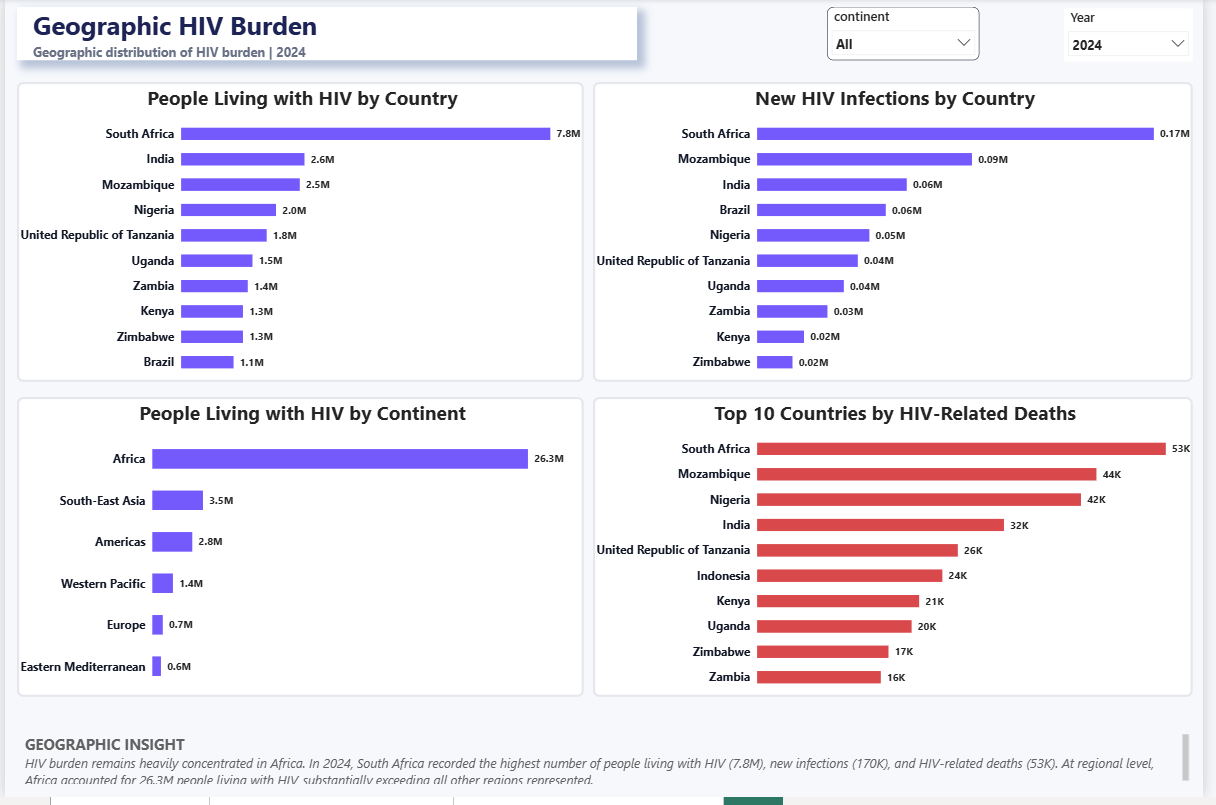

What the dashboard file says about the page in this screenshot:
{"tool":"powerbi","page":{"name":"02 Geographic Burden","canvas":[1500,1000],"ordinal":1},"visuals":[{"type":"slicer","fields":{"Values":["DimDate.Date.Variation.Date Hierarchy.Year"]},"box":[1325.8,13.1,161.1,66.7],"z":0},{"type":"slicer","fields":{"Values":["DimLocation.Continent"]},"box":[1029.6,11.1,190.7,66.7],"z":1000},{"type":"clusteredBarChart","title":"People Living with HIV by Country","fields":{"Category":["DimLocation.Country"],"Y":["MeasureTable_.Total People Living with HIV"]},"box":[14.8,105.1,709.7,375],"z":2000},{"type":"textbox","title":"Geographic HIV Burden","box":[14.8,11.1,775.9,66.7],"z":3000},{"type":"clusteredBarChart","title":"New HIV Infections by Country","fields":{"Category":["DimLocation.Country"],"Y":["MeasureTable_.Total New Infections"]},"box":[735.9,105.1,751,375],"z":4000},{"type":"clusteredBarChart","title":"People Living with HIV by Continent","fields":{"Category":["DimLocation.continent"],"Y":["MeasureTable_.Total People Living with HIV"]},"box":[14.8,499.4,709.7,375],"z":5000},{"type":"clusteredBarChart","title":"Top 10 Countries by HIV-Related Deaths","fields":{"Category":["DimLocation.country"],"Y":["MeasureTable_.Total HIV Deaths"]},"box":[735.9,499.4,751,375],"z":6000},{"type":"textbox","box":[15,916.2,1471.9,67.6],"z":7000}]}

Visuals, with their boxes in screenshot pixels (x1, y1, x2, y2), scaled from the page's 1500x1000 canvas onto the 1216x805 screenshot:
slicer - DimDate.Date.Variation.Date Hierarchy.Year: rect(1075, 11, 1205, 64)
slicer - DimLocation.Continent: rect(835, 9, 989, 63)
"People Living with HIV by Country" clusteredBarChart: rect(12, 85, 587, 386)
"Geographic HIV Burden" textbox: rect(12, 9, 641, 63)
"New HIV Infections by Country" clusteredBarChart: rect(597, 85, 1205, 386)
"People Living with HIV by Continent" clusteredBarChart: rect(12, 402, 587, 704)
"Top 10 Countries by HIV-Related Deaths" clusteredBarChart: rect(597, 402, 1205, 704)
textbox: rect(12, 738, 1205, 792)
